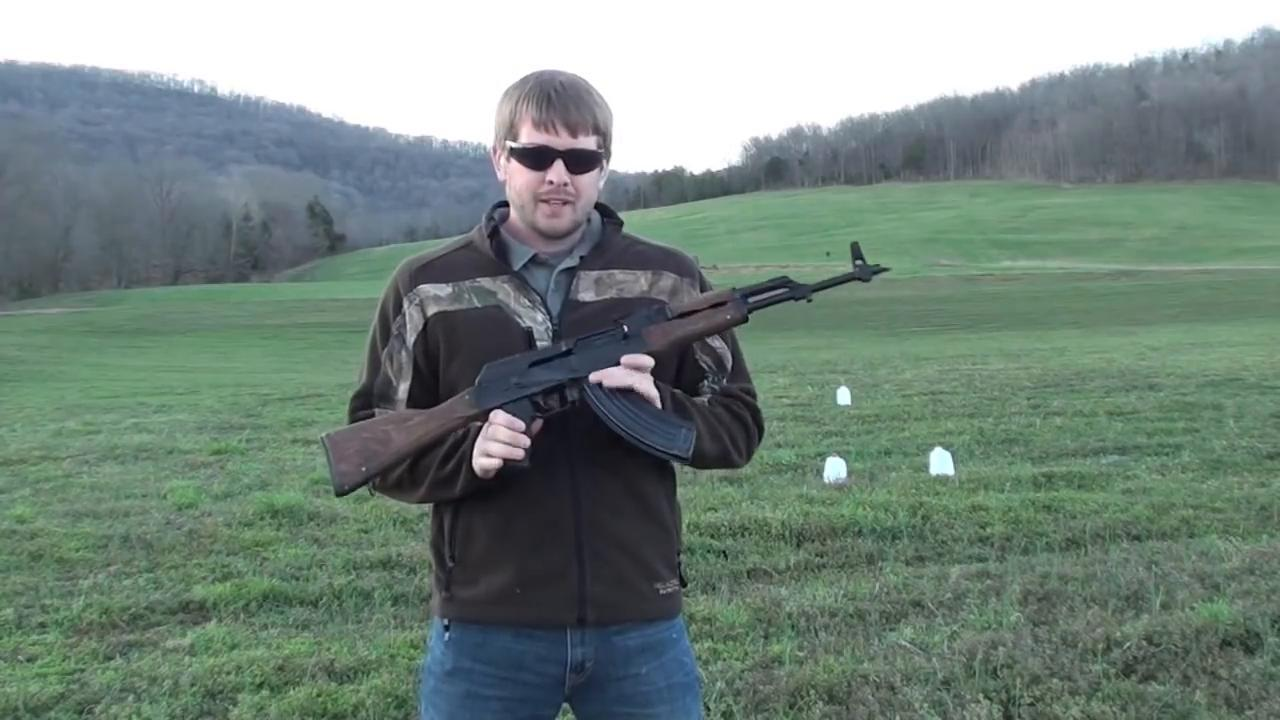AK47 Rifle: (315, 243, 896, 503)
